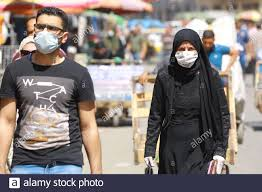no-mask: (202, 30, 218, 53)
with-mask: (30, 7, 72, 57), (167, 30, 206, 69)
